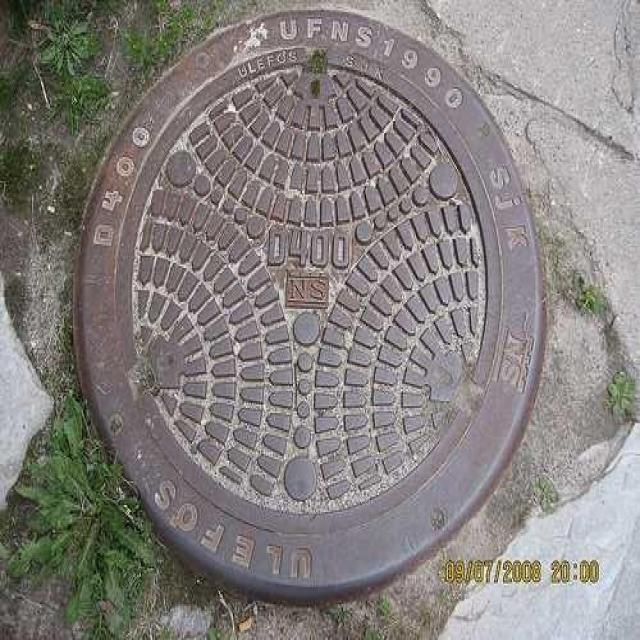manhole: (75, 12, 544, 599)
